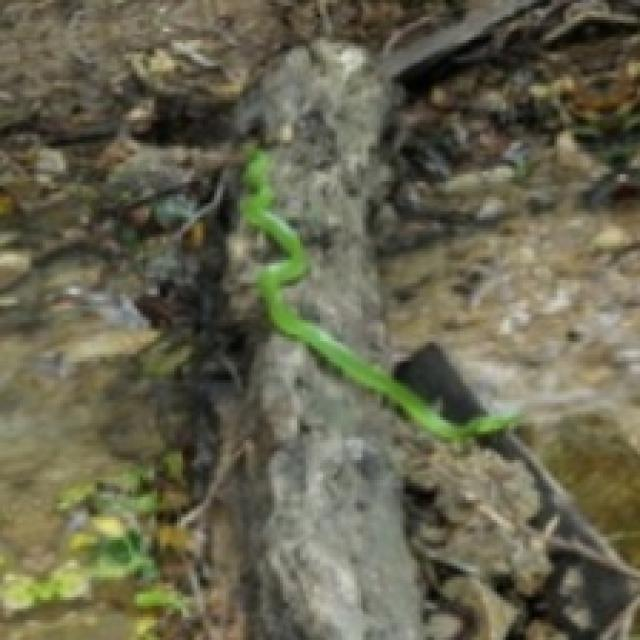red-tailed green ratsnake: (240, 149, 637, 583)
